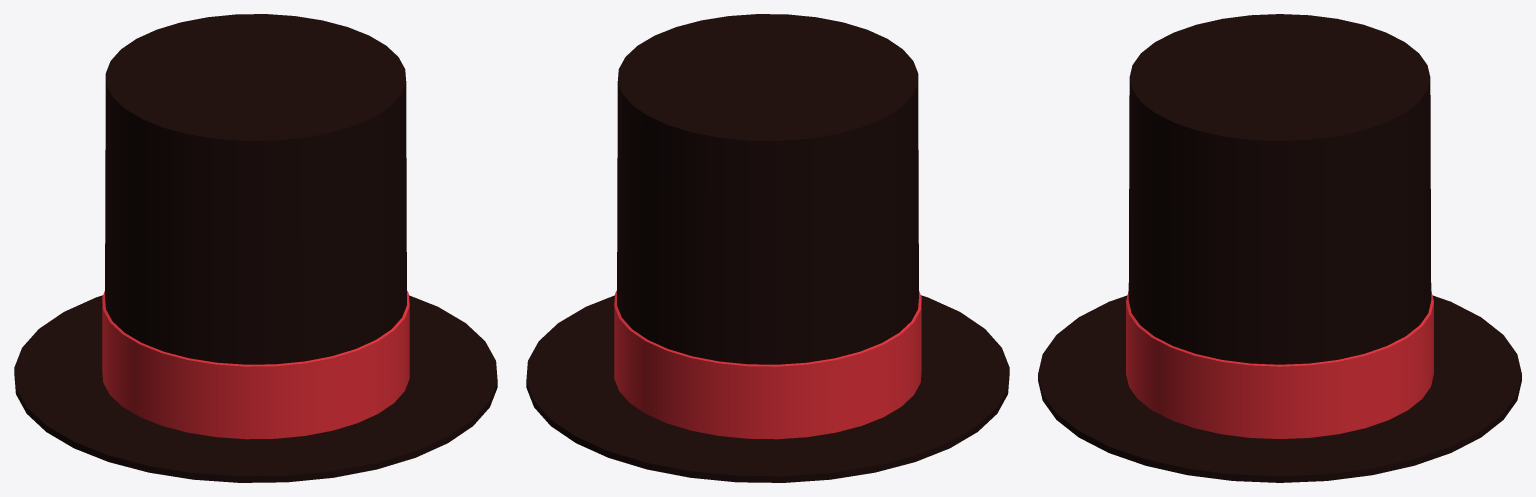
Rendered from Top Hat.gltf.
3 views of the same model, side by side, from view 1: azimuth 30°, elevation 25°; view 2: azimuth 150°, elevation 25°; view 3: azimuth 270°, elevation 25° (orthographic).
Parts seen in each view (by area): view 1: Circle.1811; view 2: Circle.1811; view 3: Circle.1811.
Part boxes in pixels (<box>): Circle.1811: <box>14,14,497,482</box>; Circle.1811: <box>526,14,1009,482</box>; Circle.1811: <box>1038,14,1521,482</box>.
Size of the model in its own units: 2 by 1.38 by 2.
